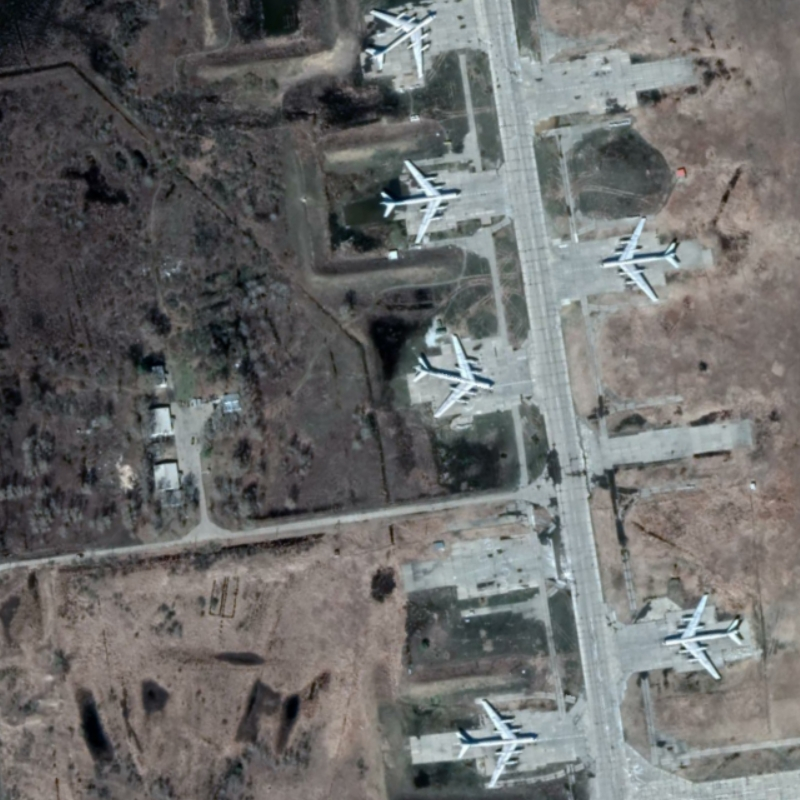A17: (658, 592, 744, 682), (454, 697, 537, 790), (377, 157, 462, 247), (597, 216, 681, 303), (410, 332, 493, 420), (363, 8, 438, 80)
